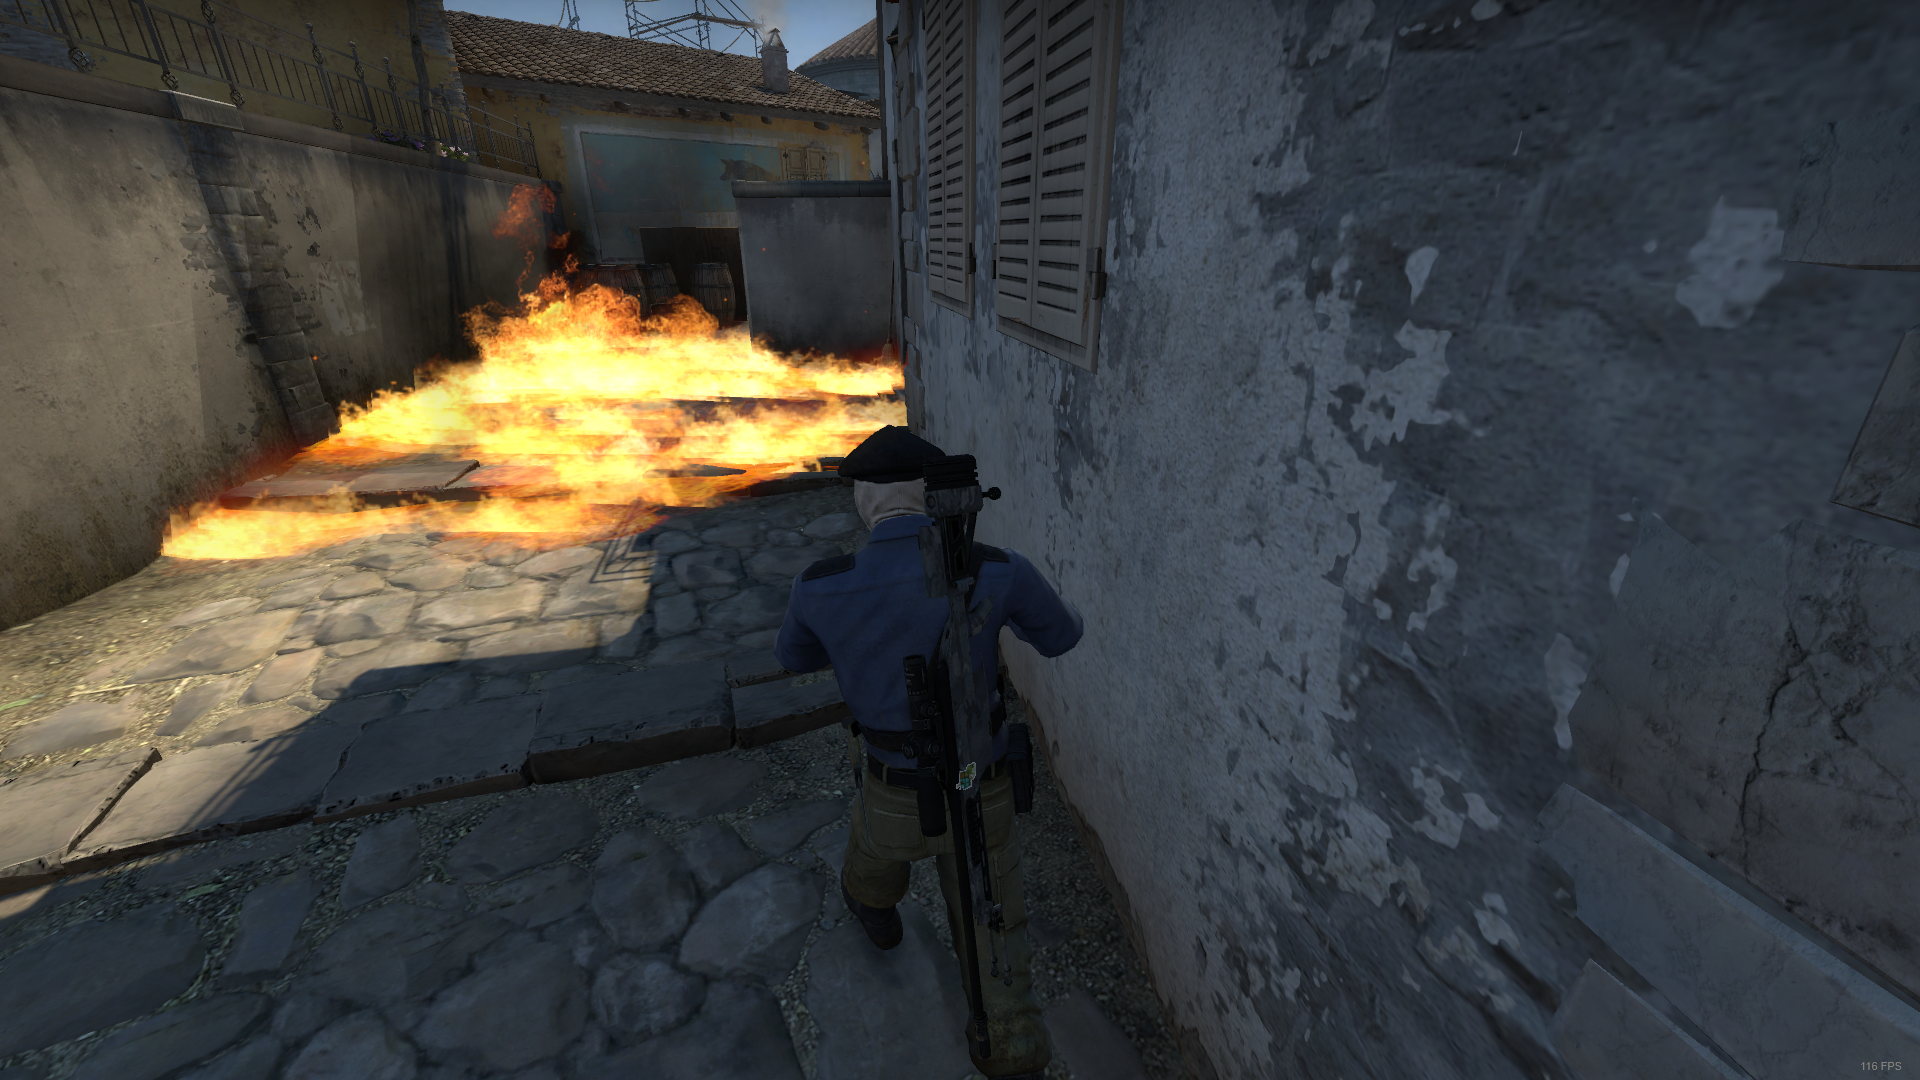t: (775, 419, 1102, 1076)
